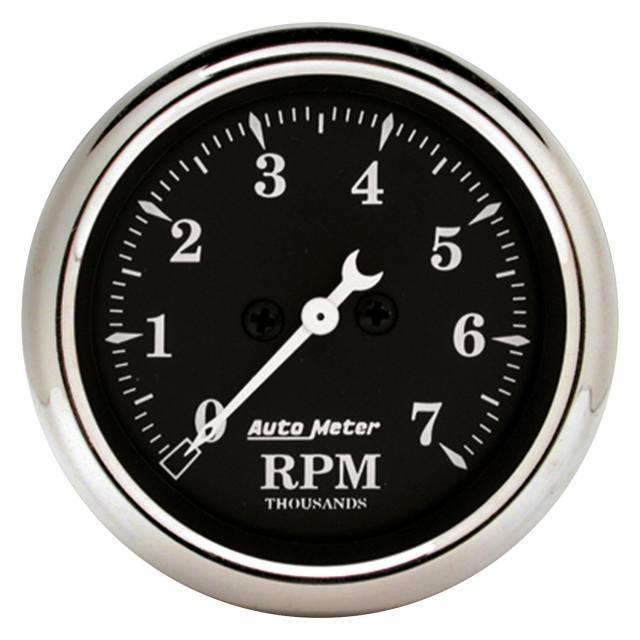Needle_Tip: (190, 379, 277, 445)
Needle_base: (294, 280, 342, 353)
max_value: (391, 388, 445, 459)
min_value: (187, 382, 224, 449)
